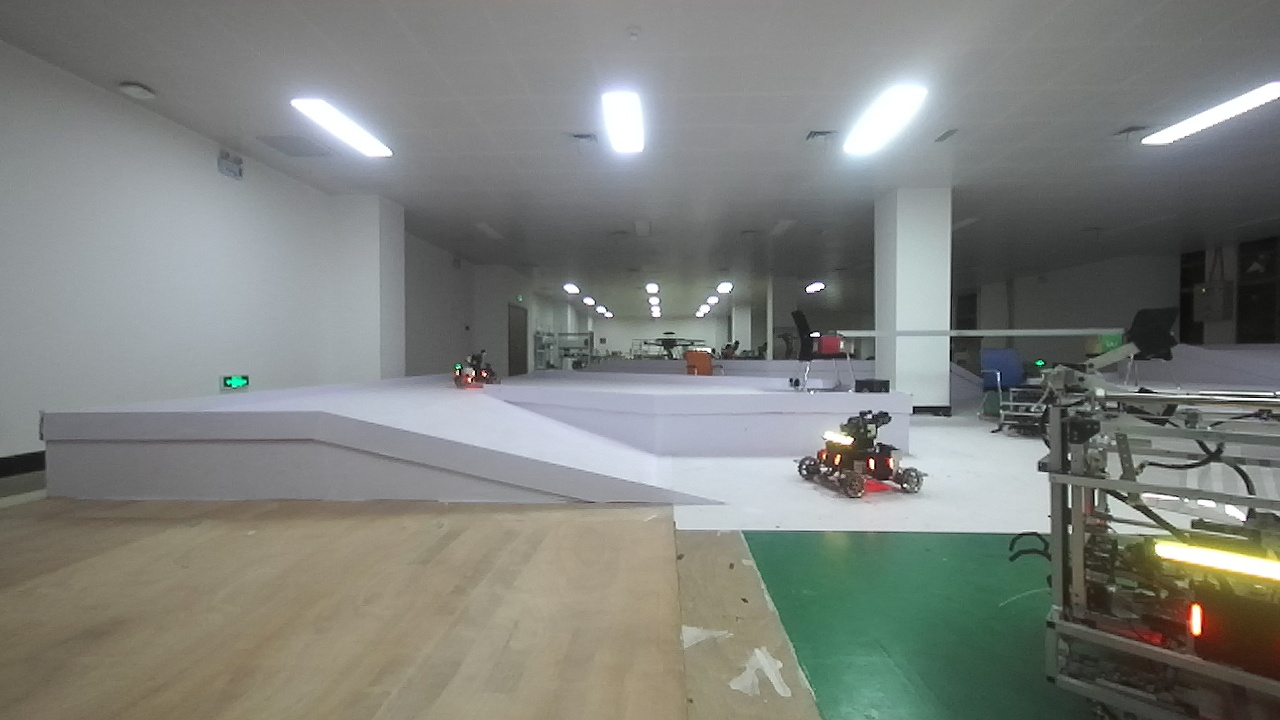car: (1028, 384, 1276, 720), (799, 416, 928, 499), (447, 348, 511, 395)
